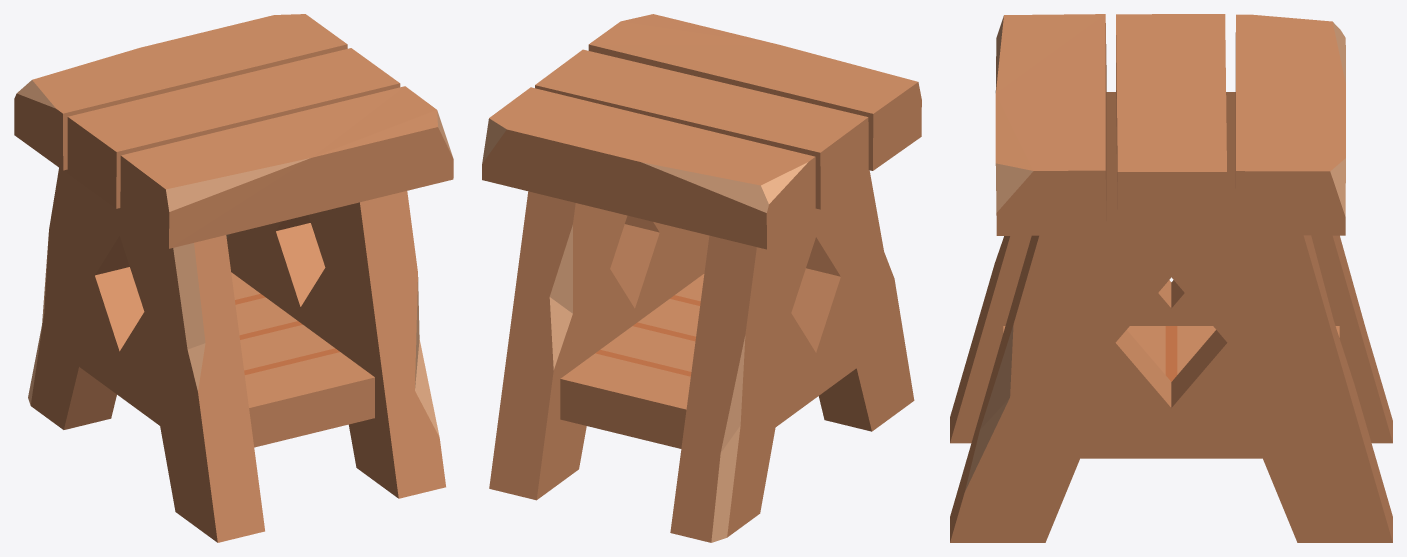
File: Stool.fbx
3 renders of one model, left to right at view 1: azimuth 30°, elevation 25°; view 2: azimuth 150°, elevation 25°; view 3: azimuth 270°, elevation 25°, orthographic. The views are drawn at different scales.
Parts seen in each view (by area): view 1: Stool; view 2: Stool; view 3: Stool.
Boxes of the visible parts, <box> form: Stool: <box>14,14,453,542</box>; Stool: <box>482,14,921,542</box>; Stool: <box>950,14,1392,542</box>.
Size of the model in its own units: 14.66 by 16.89 by 17.49.
